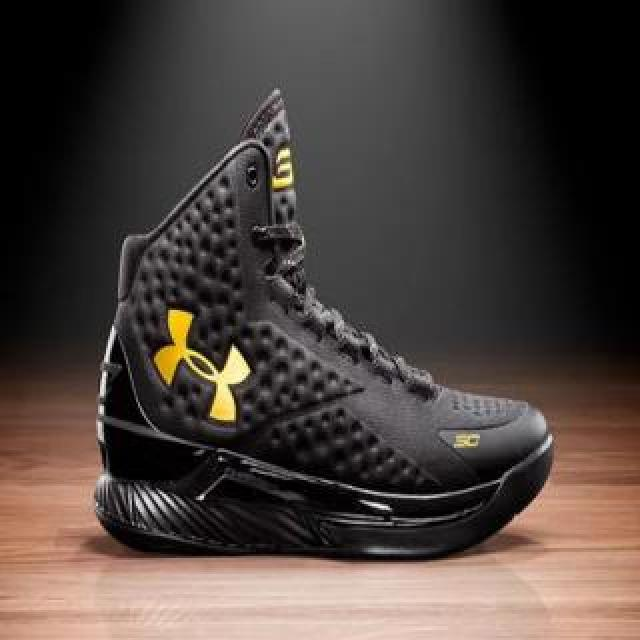shoes: (90, 82, 556, 564)
